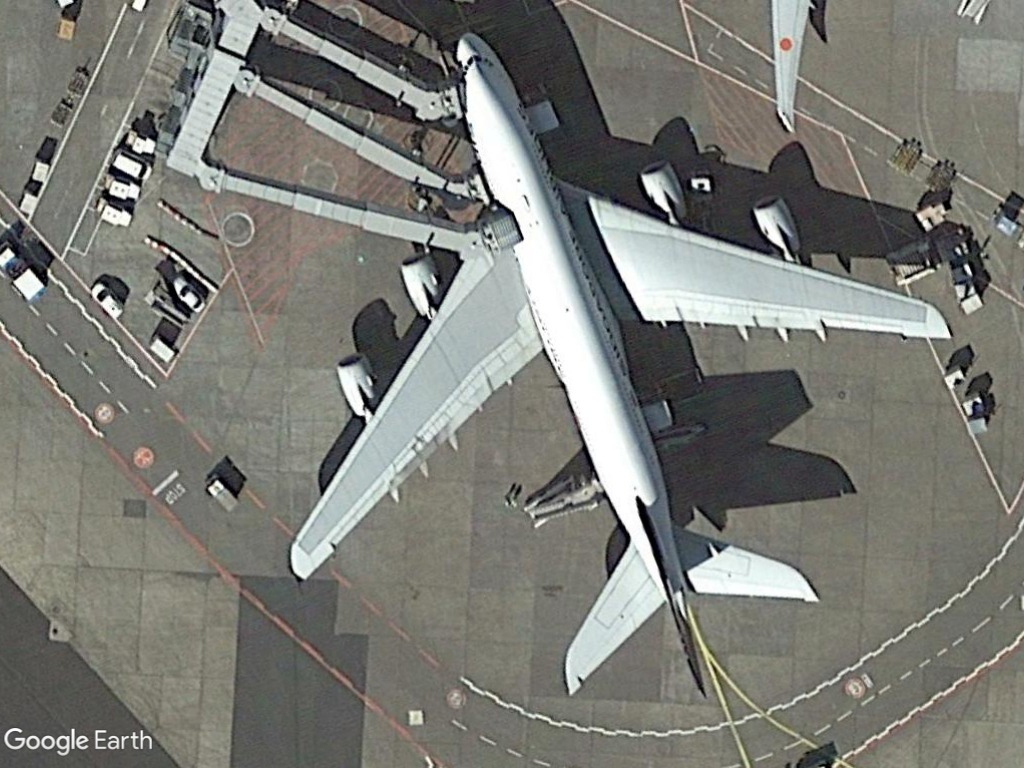airliner: (266, 18, 955, 720)
van: (79, 273, 137, 323)
